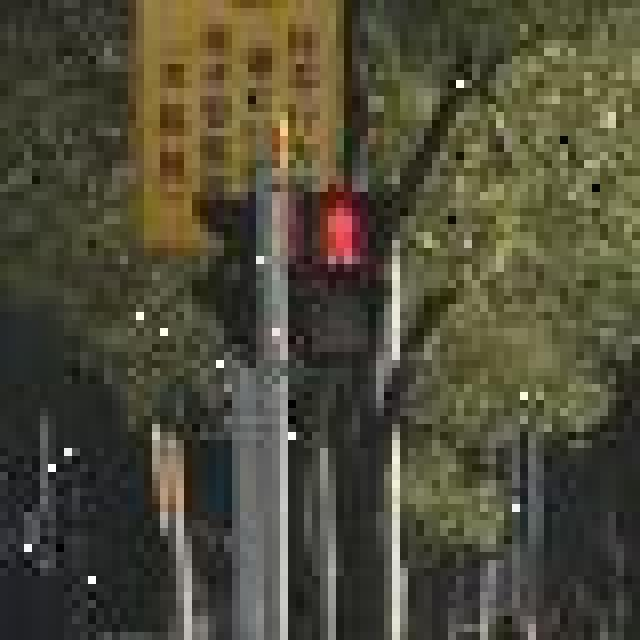redlight: (280, 176, 392, 368)
